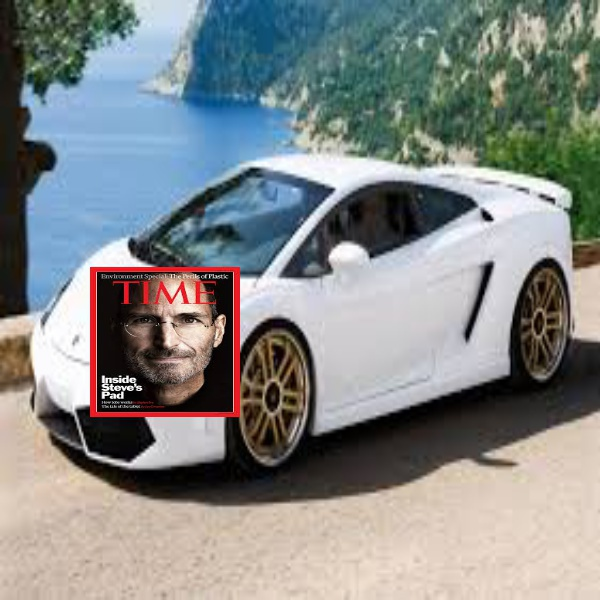time_cover: (86, 266, 244, 409)
